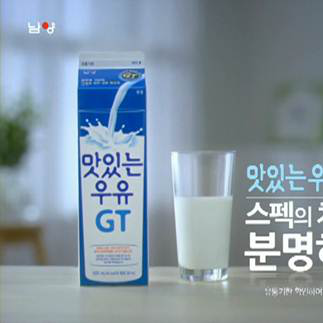milk: (77, 52, 149, 287)
